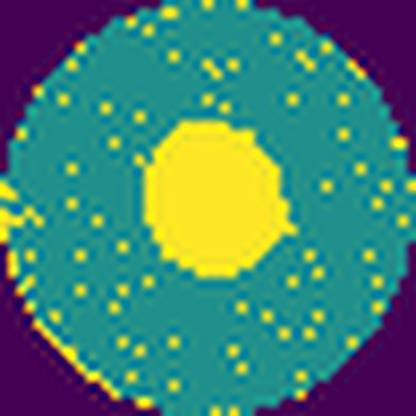Center: (142, 124, 295, 280)
